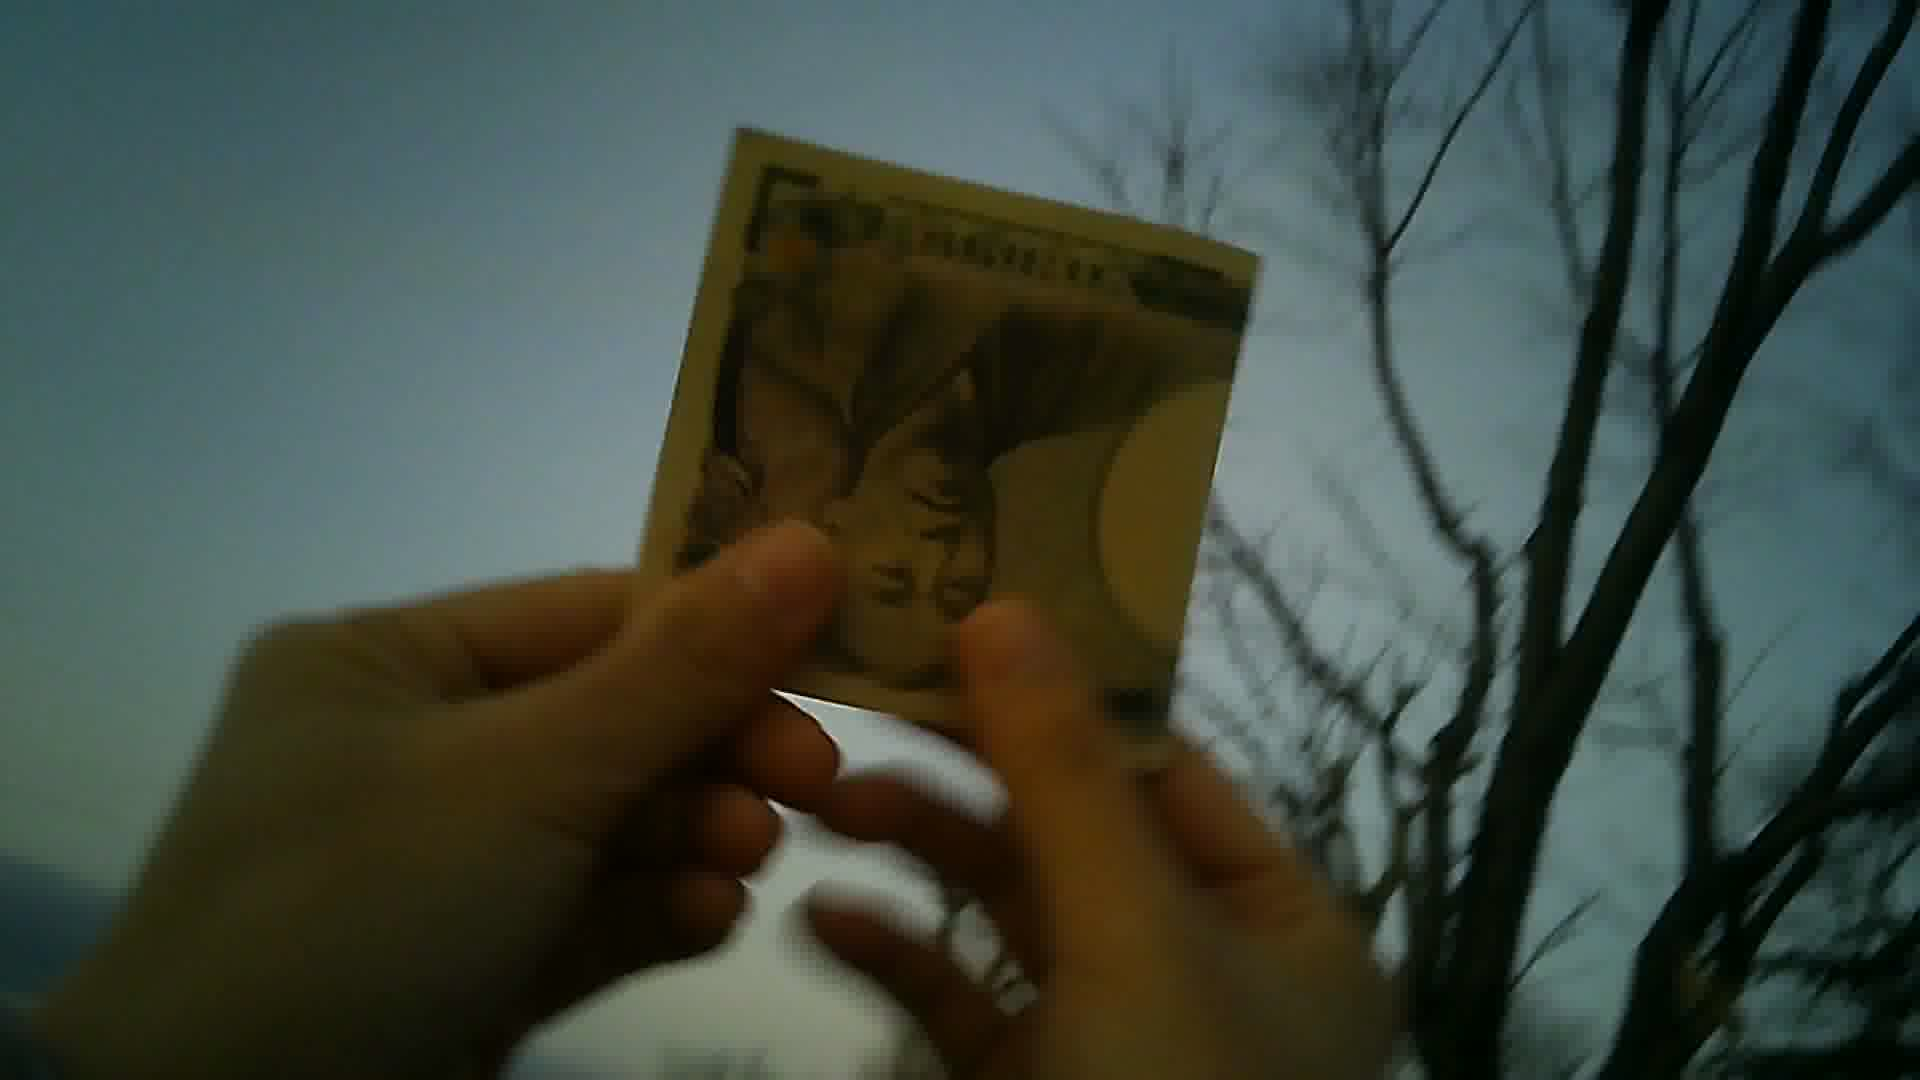10,000 Yen: (637, 102, 1215, 756)
